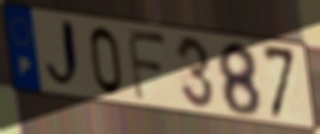0: (88, 25, 125, 97)
3: (174, 34, 216, 112)
7: (262, 42, 299, 122)
8: (215, 39, 265, 119)
F: (125, 26, 169, 104)
J: (43, 16, 84, 94)
